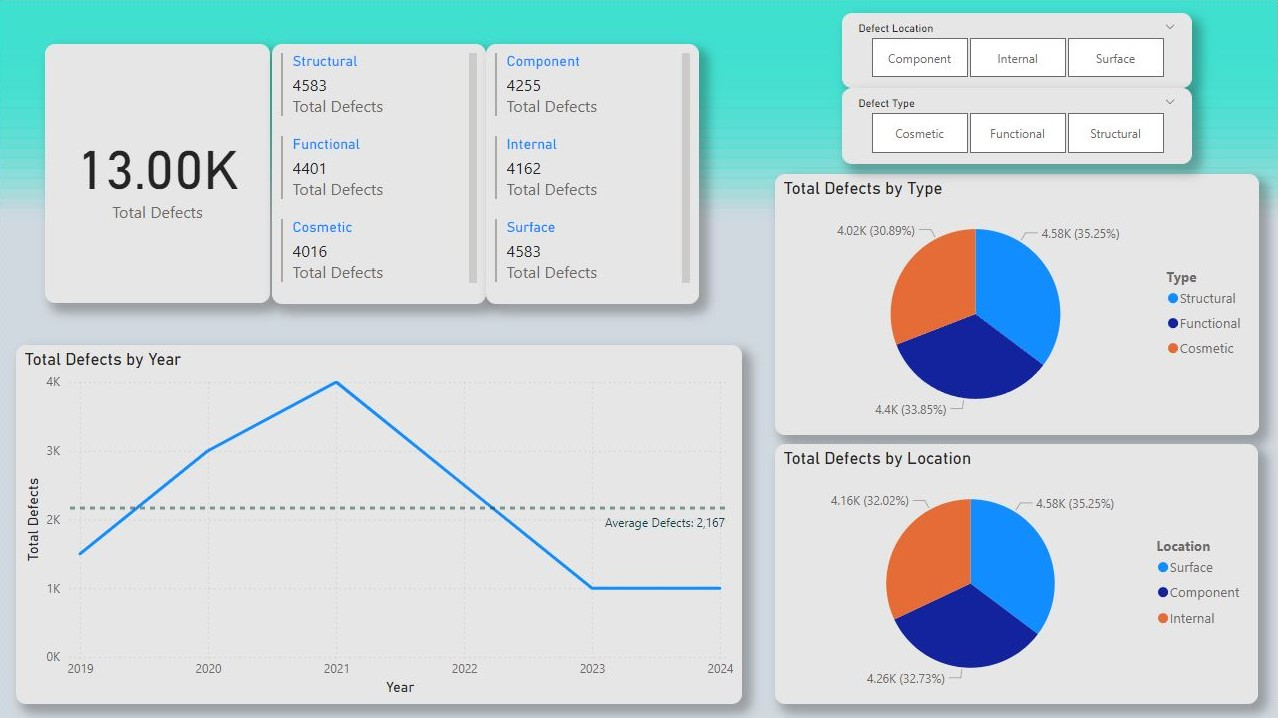

The dashboard page shown, as its layout file describes it:
{"tool":"powerbi","page":{"name":"Number of Defects","canvas":[1280,720],"ordinal":0},"visuals":[{"type":"lineChart","fields":{"Category":["defects_data.defect_date.Variation.Date Hierarchy.Year"],"Y":["Count(defects_data.defect_id)"]},"box":[18.2,346.1,725.5,359.2],"z":0},{"type":"card","title":"Total defects","fields":{"Values":["Count(defects_data.defect_id)"]},"box":[47.4,44.9,224.3,259.6],"z":1000},{"type":"multiRowCard","fields":{"Values":["CountNonNull(defects_data.defect_id)","defects_data.defect_type"]},"box":[271.4,47.7,214,259.7],"z":2000},{"type":"multiRowCard","fields":{"Values":["defects_data.defect_location","CountNonNull(defects_data.defect_id)"]},"box":[485.6,47.4,213.9,259.6],"z":3000},{"type":"pieChart","fields":{"Y":["CountNonNull(defects_data.defect_id)"],"Category":["defects_data.defect_type"]},"box":[777.1,175.1,483.4,260.7],"z":4000},{"type":"pieChart","fields":{"Category":["defects_data.defect_location"],"Y":["CountNonNull(defects_data.defect_id)"]},"box":[777.1,445.2,483,260],"z":5000},{"type":"slicer","fields":{"Values":["defects_data.defect_location"]},"box":[843.9,14.2,350.1,74.9],"z":6000},{"type":"slicer","fields":{"Values":["defects_data.defect_type"]},"box":[843.9,89,350.1,75.9],"z":7000}]}

Visuals, with their boxes in screenshot pixels (x1, y1, x2, y2), scaled from the page's 1280x720 canvas onto the 1278x718 screenshot:
lineChart - defects_data.defect_date.Variation.Date Hierarchy.Year x Count(defects_data.defect_id): box=[18, 345, 743, 703]
"Total defects" card: box=[47, 45, 271, 304]
multiRowCard - CountNonNull(defects_data.defect_id) x defects_data.defect_type: box=[271, 48, 485, 307]
multiRowCard - defects_data.defect_location x CountNonNull(defects_data.defect_id): box=[485, 47, 698, 306]
pieChart - CountNonNull(defects_data.defect_id) x defects_data.defect_type: box=[776, 175, 1259, 435]
pieChart - defects_data.defect_location x CountNonNull(defects_data.defect_id): box=[776, 444, 1258, 703]
slicer - defects_data.defect_location: box=[843, 14, 1192, 89]
slicer - defects_data.defect_type: box=[843, 89, 1192, 164]
